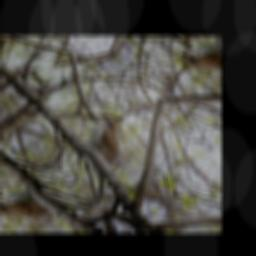Cuckoo: (46, 112, 157, 207)
